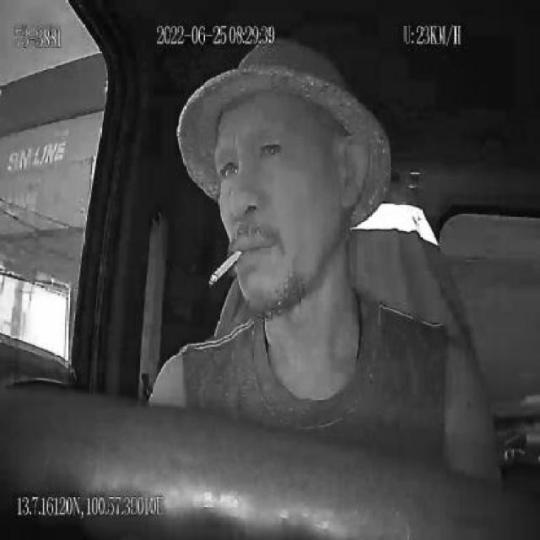smoking: (208, 246, 242, 286)
